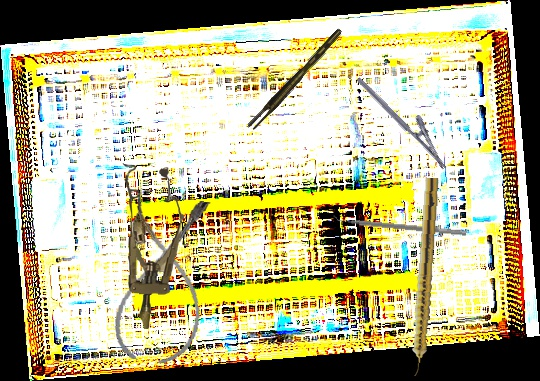Cannula: (110, 191, 216, 368)
Handpiece: (407, 177, 440, 377)
Needle Holder: (356, 65, 459, 171)
Spatula Surgical: (331, 213, 468, 236)
Speculum: (113, 163, 187, 331)
Tissue Forceps: (243, 28, 348, 132)
